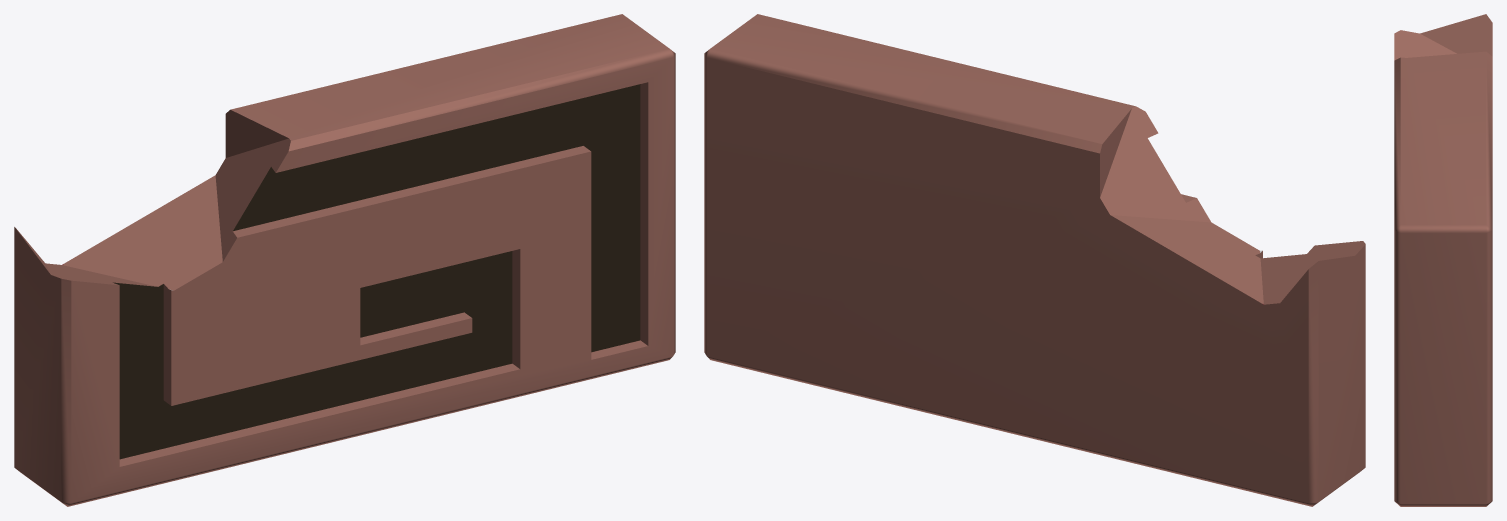
The model's file is SM_muretto4.fbx.
The picture shows the model from 3 angles, left to right: view 1: azimuth 30°, elevation 25°; view 2: azimuth 150°, elevation 25°; view 3: azimuth 270°, elevation 25°; orthographic projection. The views are drawn at different scales.
Parts seen in each view (by area): view 1: pCube61; view 2: pCube61; view 3: pCube61.
Boxes of the visible parts, x1,y1,x2,y2 form: pCube61: (14,14,675,506); pCube61: (704,14,1365,506); pCube61: (1394,14,1492,506).
Size of the model in its own units: 3.61 by 1.75 by 0.5535.
